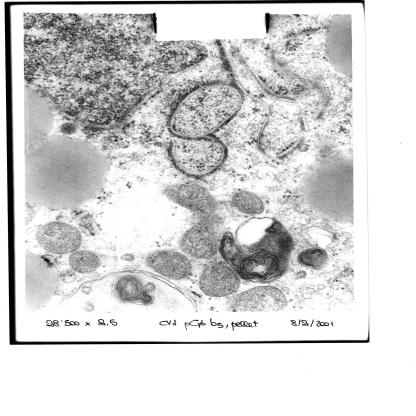mitochondria: (164, 182, 220, 258), (35, 221, 82, 255), (144, 250, 193, 281), (198, 261, 240, 297), (228, 286, 287, 310), (233, 192, 266, 215), (68, 251, 102, 273)
